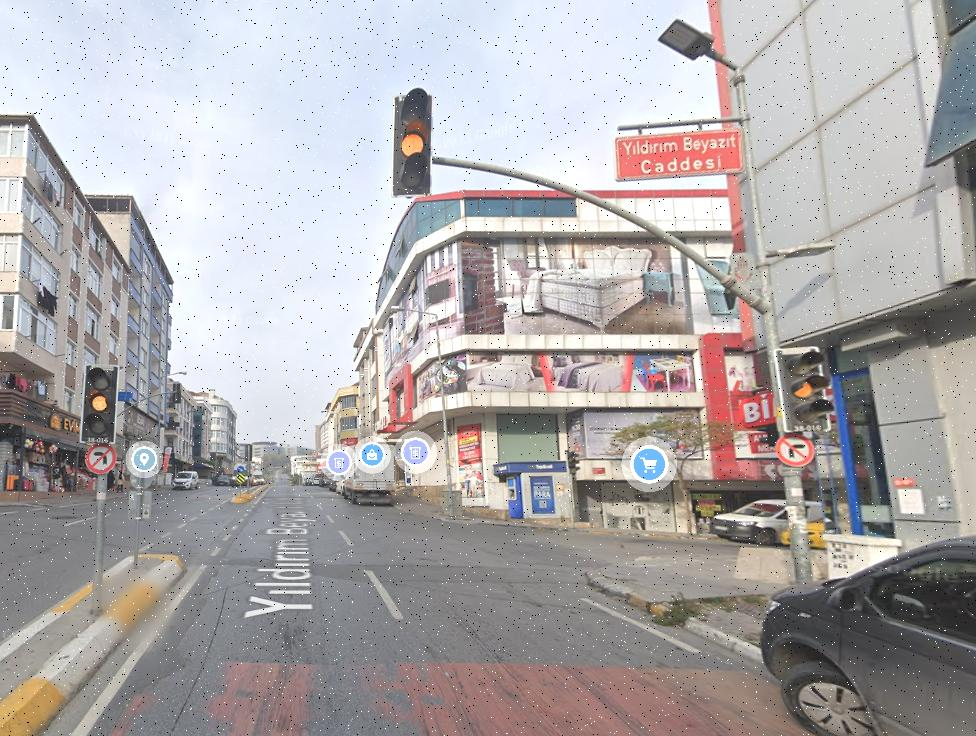leftturnsareforbidden: (86, 441, 116, 474)
rightturnsareforbidden: (777, 432, 814, 467)
yellowlight: (391, 87, 436, 199), (777, 341, 827, 428), (79, 363, 118, 442)
